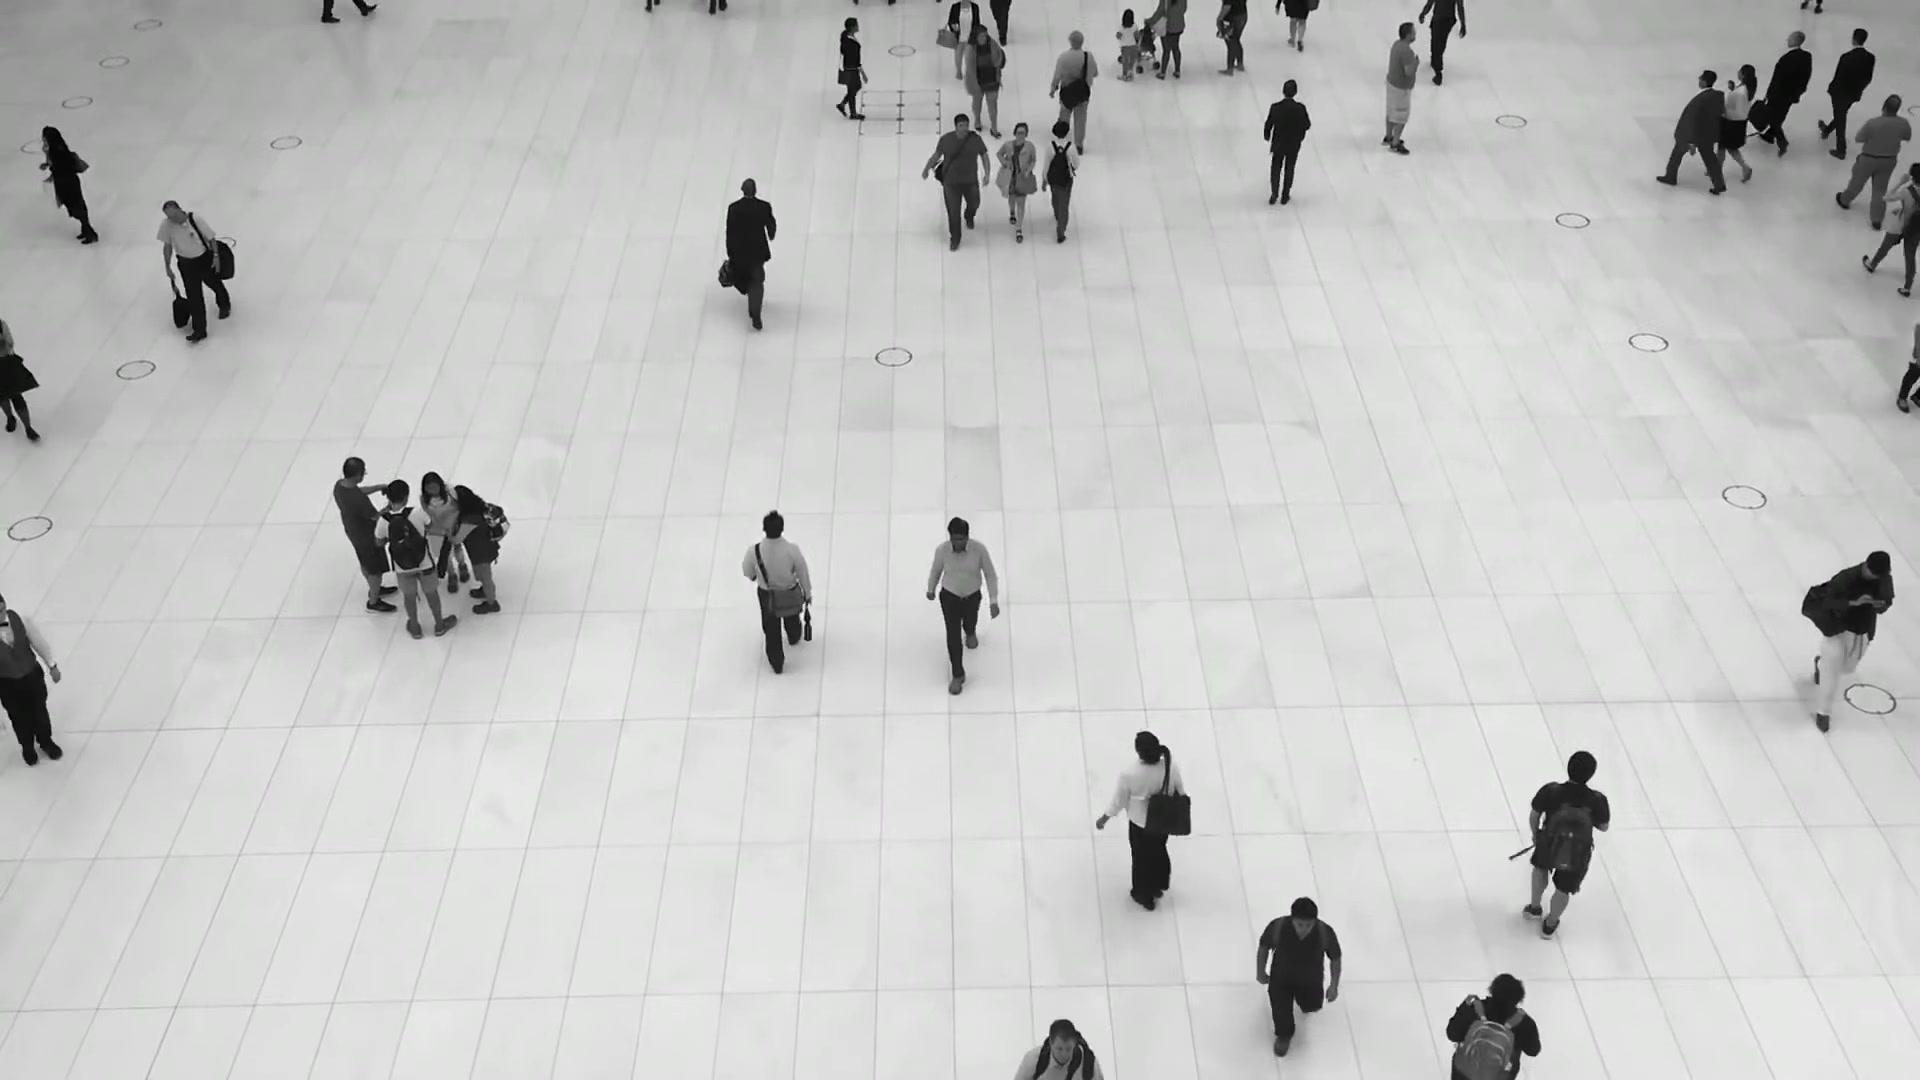person: (1802, 551, 1896, 737), (1520, 750, 1610, 936), (1102, 730, 1190, 920), (925, 516, 1002, 700), (1256, 897, 1342, 1062), (377, 477, 460, 635), (0, 598, 70, 776), (741, 508, 815, 671), (155, 198, 232, 341), (1443, 971, 1540, 1080), (1835, 92, 1913, 230), (333, 456, 399, 610), (921, 112, 990, 254), (1652, 69, 1725, 196), (725, 177, 777, 332), (1861, 162, 1920, 296), (1819, 26, 1876, 159), (1757, 30, 1812, 158), (40, 125, 98, 245), (449, 483, 501, 615), (1262, 79, 1312, 208), (1048, 28, 1099, 153), (419, 470, 469, 593), (1014, 1017, 1109, 1080), (1709, 63, 1757, 187), (1380, 21, 1421, 155), (1040, 119, 1081, 244), (995, 121, 1037, 244), (965, 24, 1004, 137), (832, 16, 868, 120), (946, 0, 980, 80), (1115, 8, 1139, 81)
